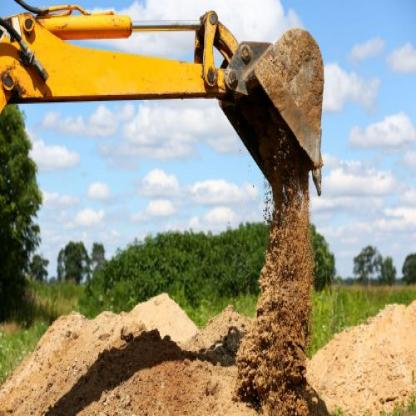excavator: (4, 0, 327, 207)
